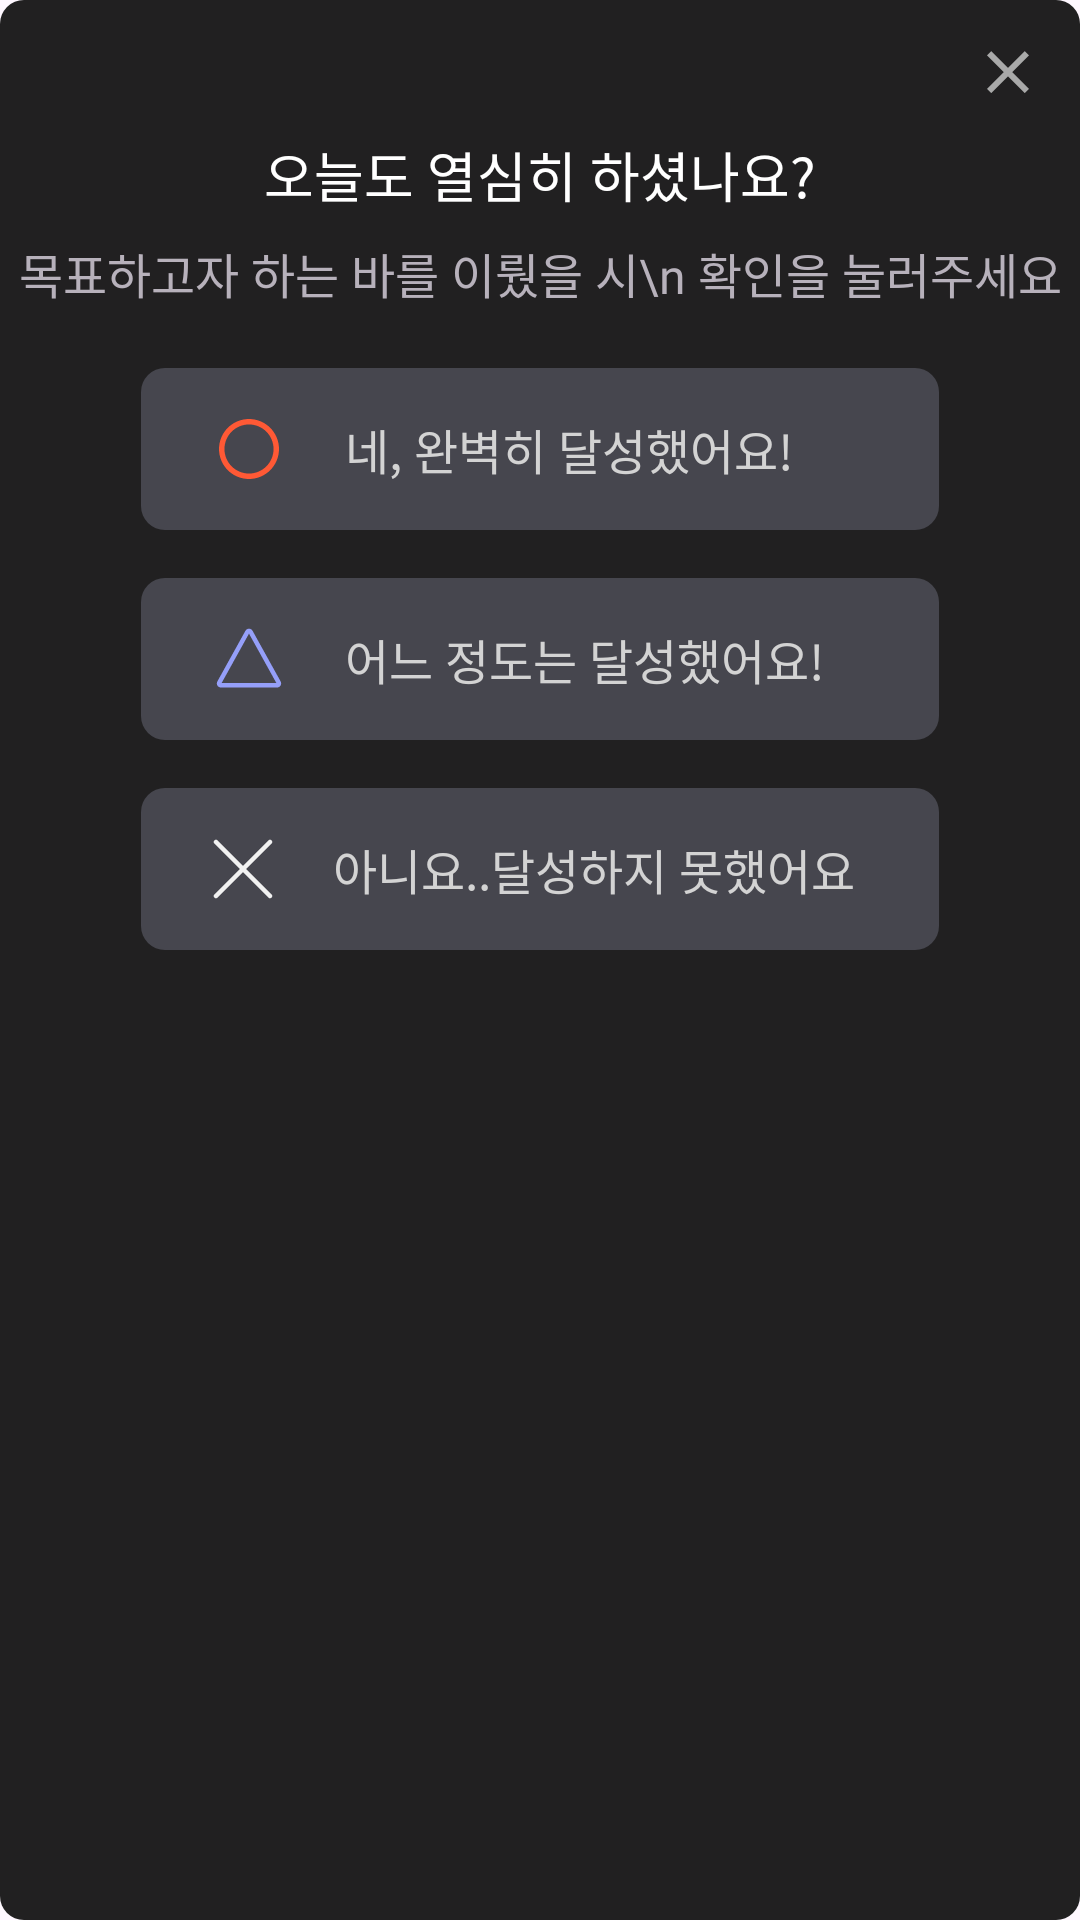

Where icons sit on this 1080×1920 app screen, as (x1, y1, x2, y2):
close: (987, 51, 1029, 93)
